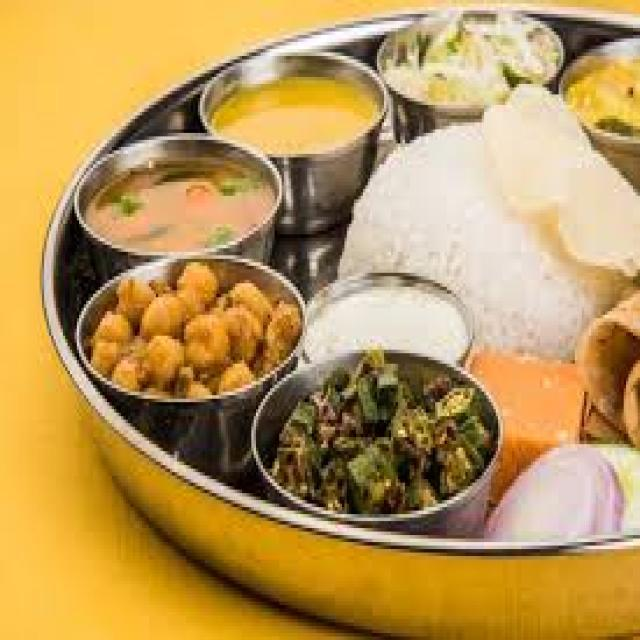dal: (204, 49, 384, 179)
papad: (488, 87, 640, 268)
rice: (367, 96, 612, 338)
sambar-rasam: (76, 133, 268, 271)
veg-fry: (279, 320, 488, 529)
